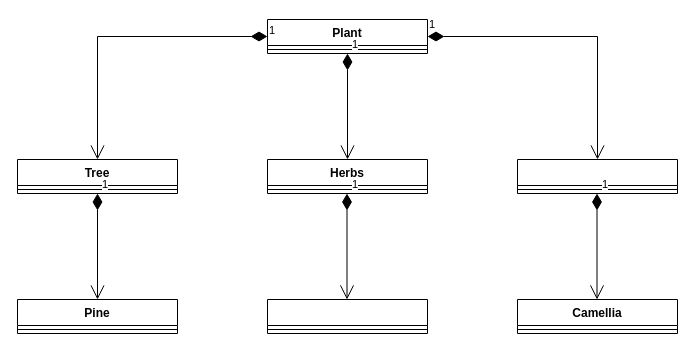
This 695x351 diagram has some shape labels left out. The centre of each missing label's shape, as x and y in pixels:
"Basil" belongs at (x=347, y=316).
"Shrubs" belongs at (x=597, y=176).
